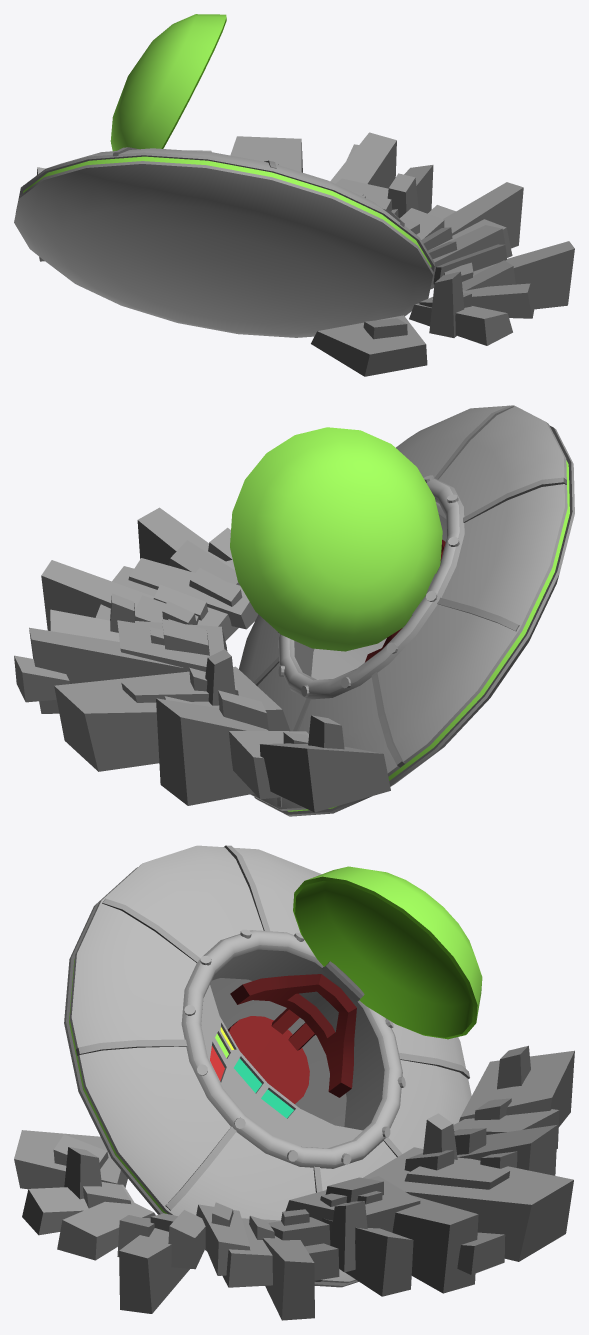
The model's file is ufo_scene.fbx.
3 renders of one model, top to bottom at view 1: azimuth 30°, elevation 25°; view 2: azimuth 150°, elevation 25°; view 3: azimuth 270°, elevation 25°, orthographic. The views are drawn at different scales.
Parts seen in each view (by area): view 1: ufo_crash, ufo_rubble, cupola_crash; view 2: ufo_rubble, ufo_crash, cupola_crash; view 3: ufo_crash, ufo_rubble, cupola_crash.
Part boxes in pixels (x1,y1,x2,y2): ufo_crash: [14, 147, 434, 337]; ufo_rubble: [37, 132, 574, 376]; cupola_crash: [110, 14, 226, 151]; ufo_rubble: [14, 507, 390, 812]; ufo_crash: [239, 405, 574, 816]; cupola_crash: [230, 427, 442, 651]; ufo_crash: [64, 845, 471, 1287]; ufo_rubble: [14, 1045, 574, 1320]; cupola_crash: [293, 866, 482, 1039].
Size of the model in its own units: 2167 by 1450 by 2006.
